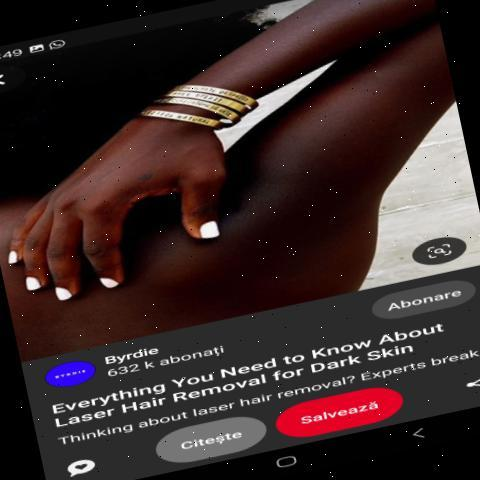Hands: (6, 102, 265, 306)
